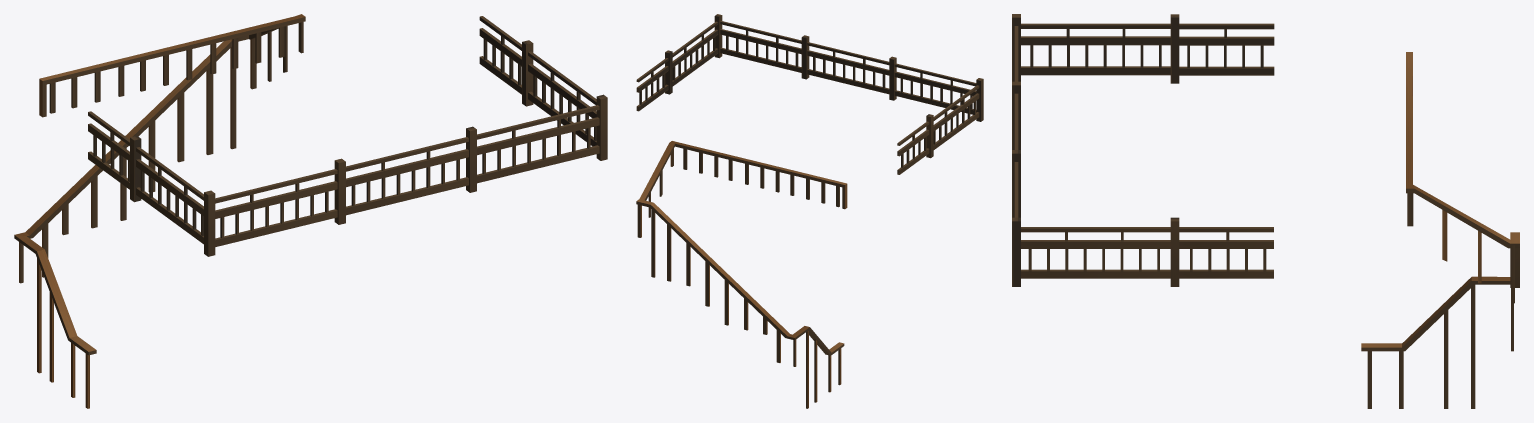
File: SK_House_Fence_001.FBX
The picture shows the model from 3 angles, left to right: view 1: azimuth 30°, elevation 25°; view 2: azimuth 150°, elevation 25°; view 3: azimuth 270°, elevation 25°; orthographic projection. The views are drawn at different scales.
Visible parts, largest first — view 1: SK_House_Fence_001; view 2: SK_House_Fence_001; view 3: SK_House_Fence_001.
Part boxes in pixels (x1,y1,x2,y2): SK_House_Fence_001: (14,14,607,408); SK_House_Fence_001: (636,14,983,408); SK_House_Fence_001: (1012,14,1519,408).
Bounding box in the file's own units: 561 × 466 × 580.
